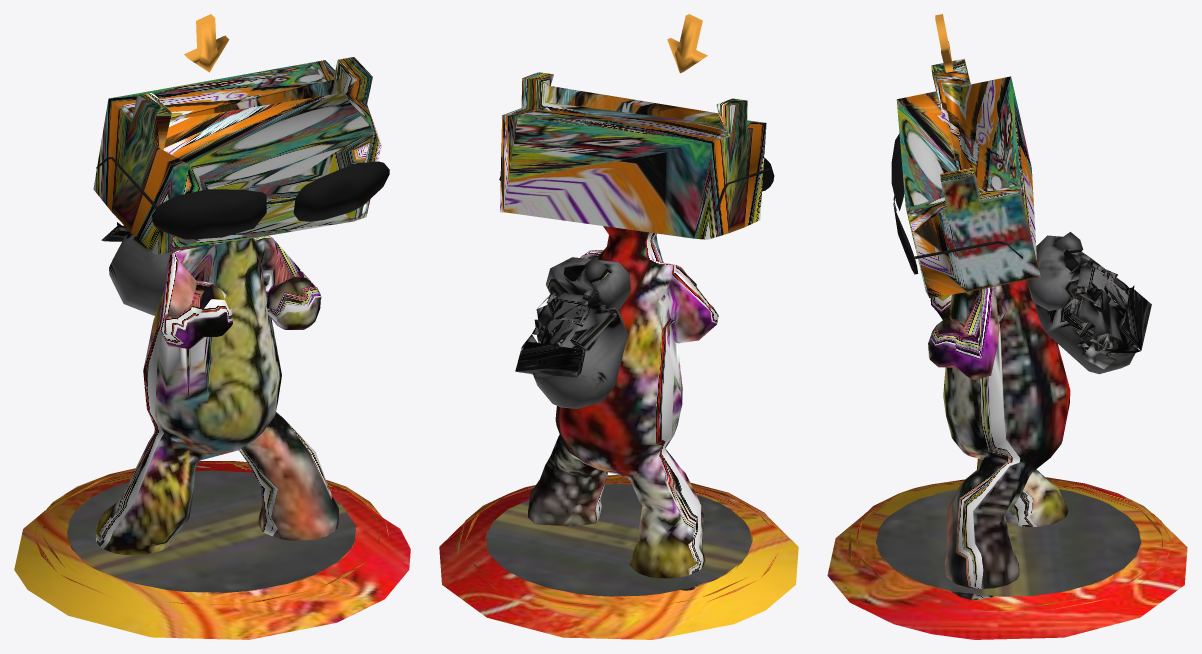
3 views of the same model, side by side, from view 1: azimuth 30°, elevation 25°; view 2: azimuth 150°, elevation 25°; view 3: azimuth 270°, elevation 25° (orthographic). The views are drawn at different scales.
Size of the model in its own units: 1.43 by 2.31 by 1.42.
7 materials, 6 textured.
